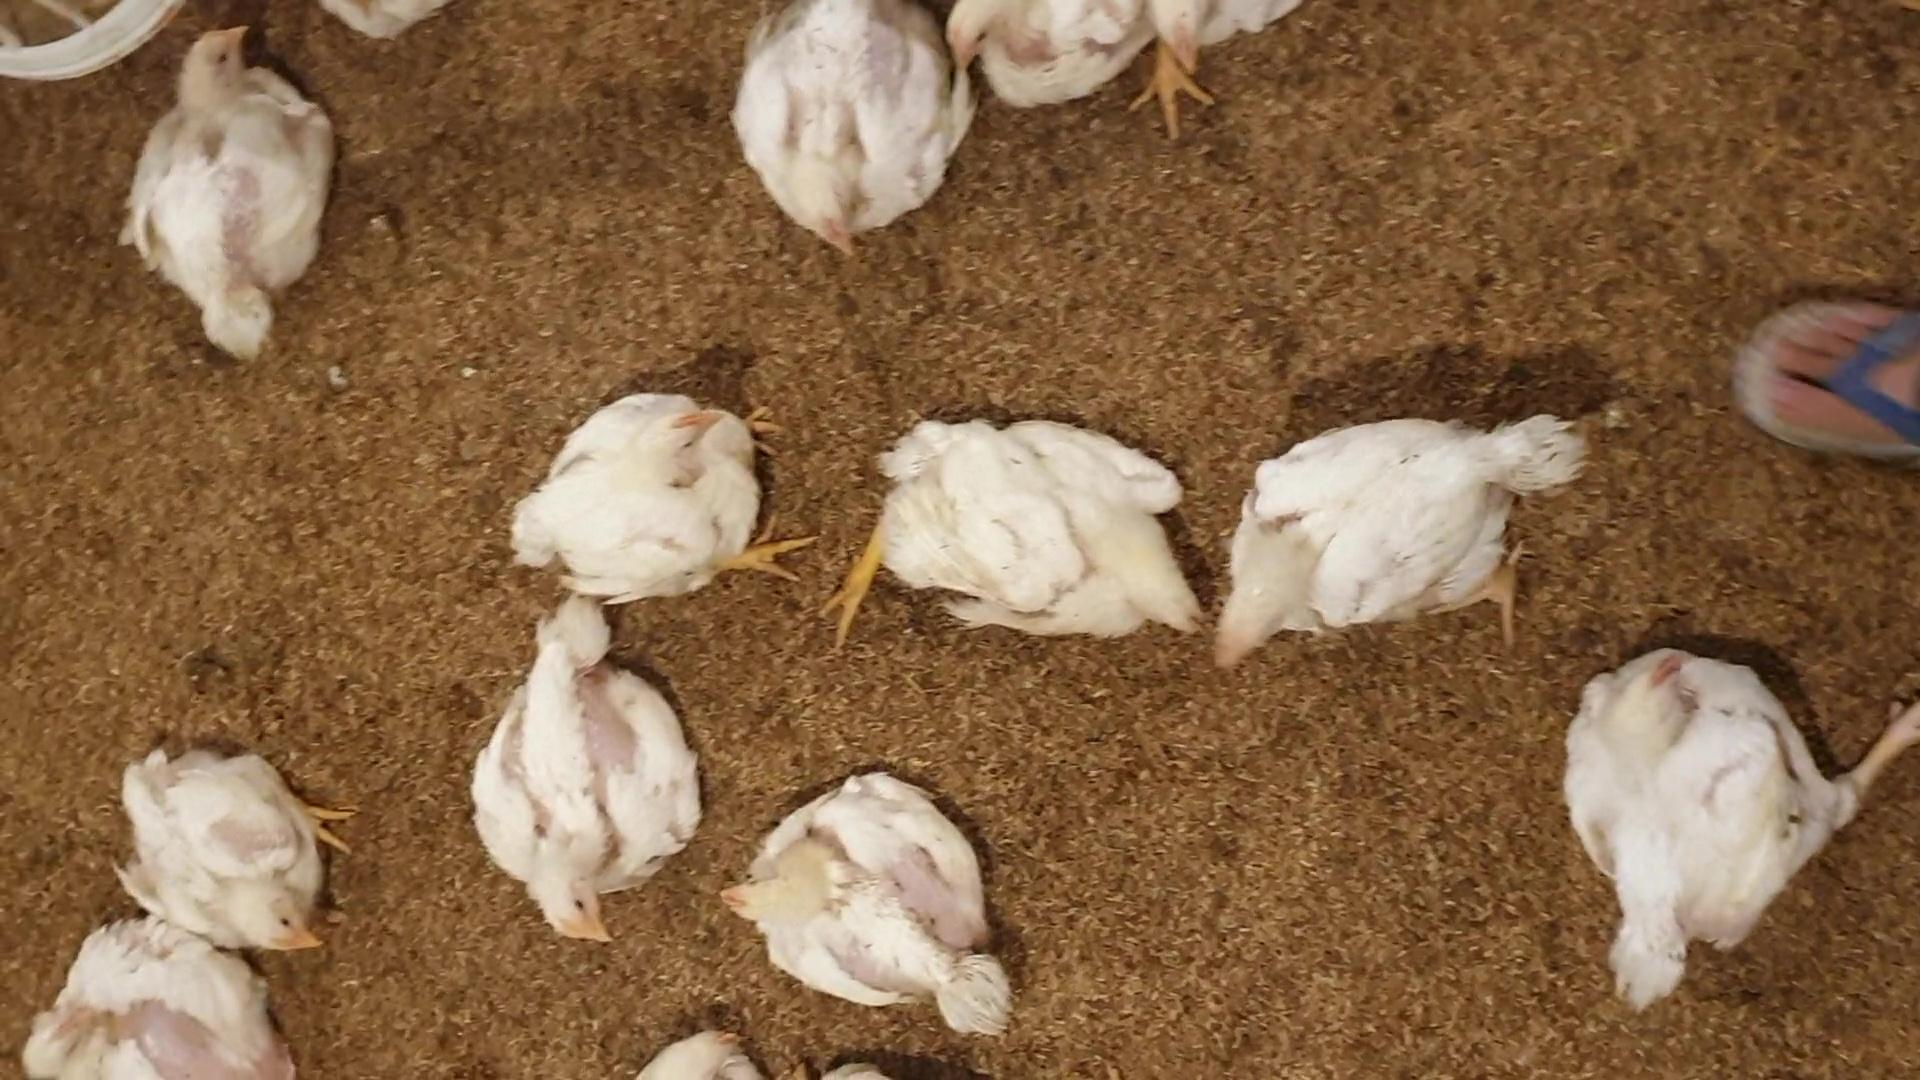Pollos: (1207, 400, 1573, 676), (1553, 651, 1849, 934), (876, 414, 1201, 645), (473, 636, 707, 949), (746, 771, 1006, 1026), (735, 0, 976, 265), (117, 32, 335, 307), (512, 382, 793, 584), (113, 746, 349, 961)
